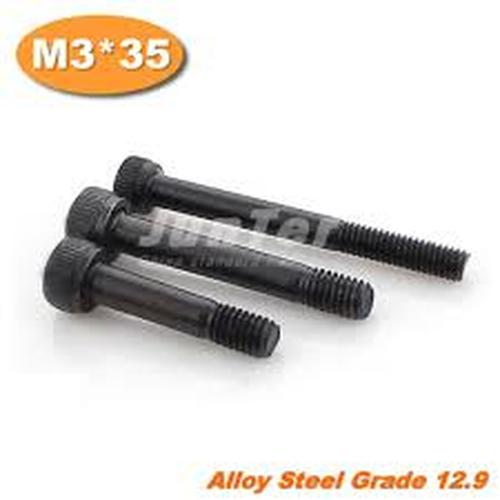Tornillo: (110, 153, 474, 284), (57, 184, 379, 323), (40, 234, 284, 362)
